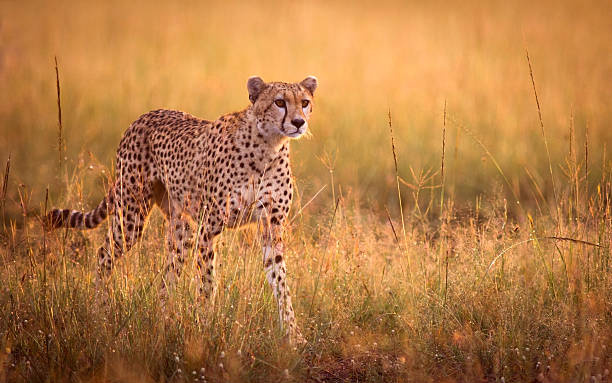cheetah: (233, 67, 320, 151)
